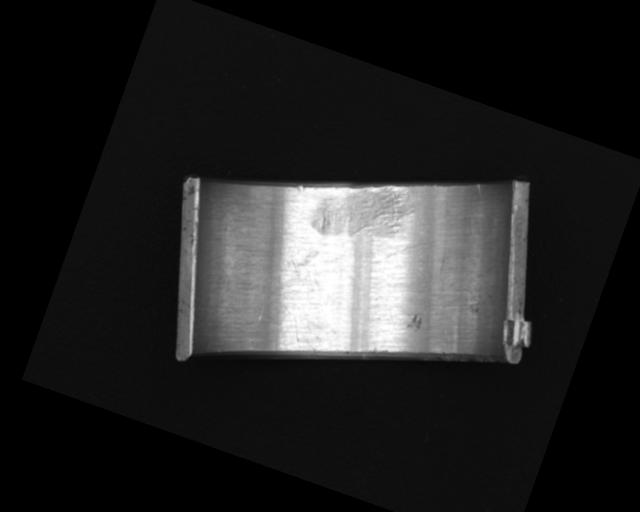blot: (274, 237, 331, 297)
bruise: (404, 311, 425, 333), (293, 182, 306, 193)
nick: (474, 182, 486, 196)
scratch: (307, 163, 423, 263)
